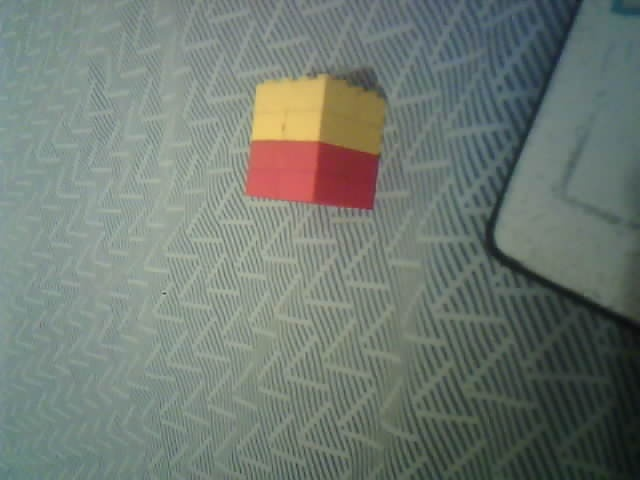lego: (242, 73, 388, 212)
